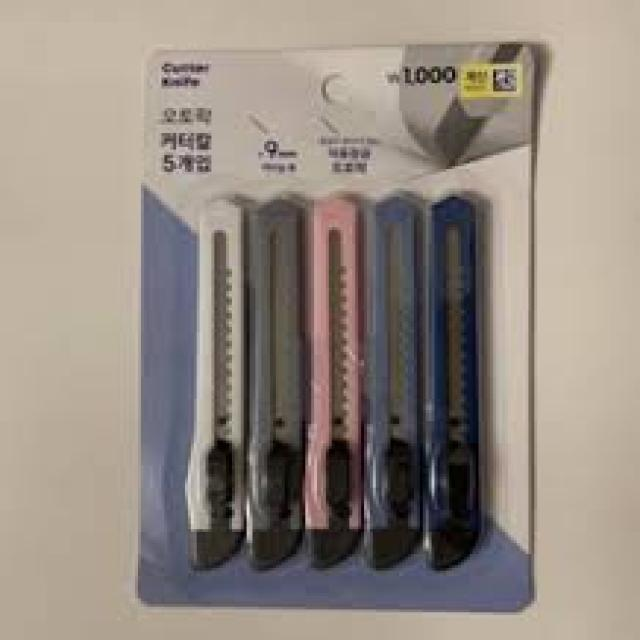cutter: (296, 187, 370, 576), (360, 190, 431, 574), (180, 192, 252, 570), (243, 185, 300, 568), (432, 190, 487, 578)
